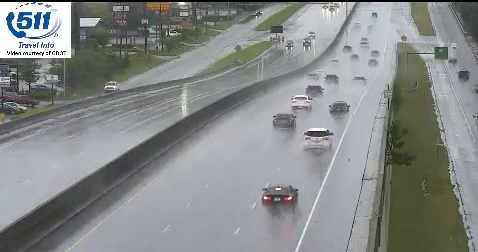car: (263, 184, 297, 208), (305, 128, 332, 150), (273, 113, 295, 128), (291, 95, 311, 110), (329, 101, 350, 115), (306, 85, 323, 97)
